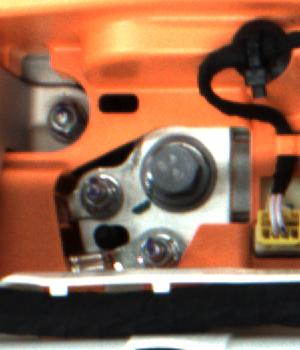nut_b: (135, 124, 226, 217)
screw_s: (45, 97, 84, 143), (135, 234, 179, 268), (77, 175, 116, 213)
